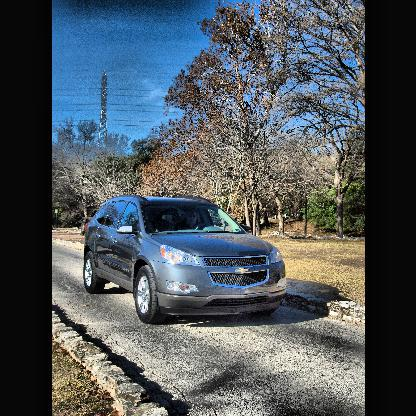Chevrolet Traverse SUV 2012: (77, 192, 291, 331)
